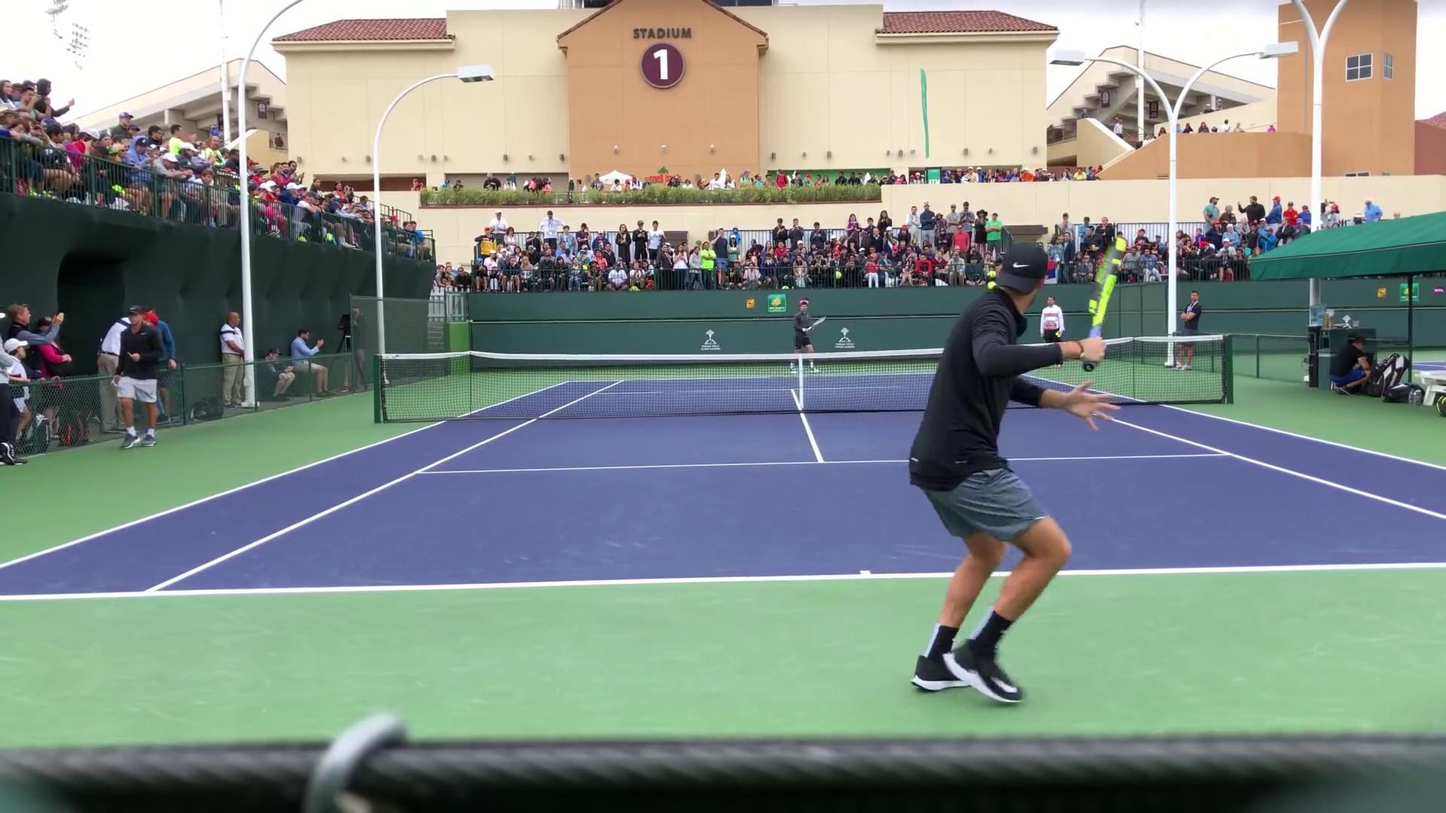ball: (987, 280, 995, 289)
